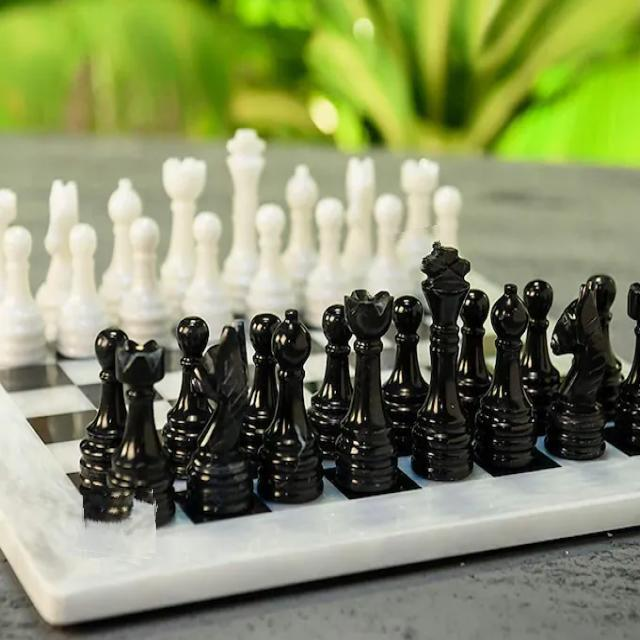chess-table-corners: (78, 488, 156, 563), (389, 228, 445, 274)
